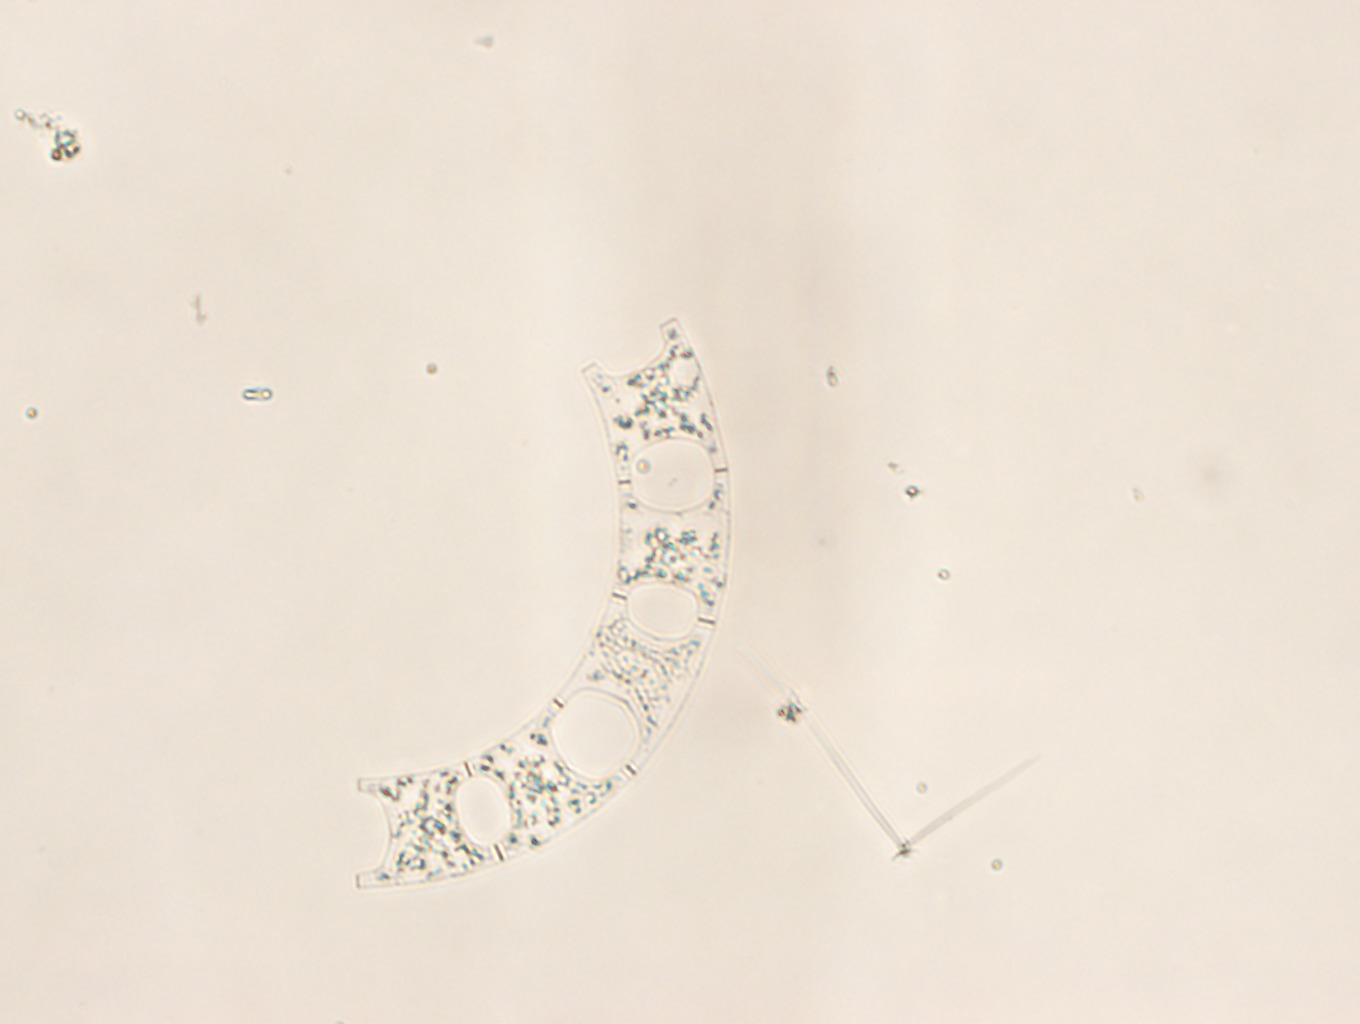eucampia: (354, 316, 732, 887)
